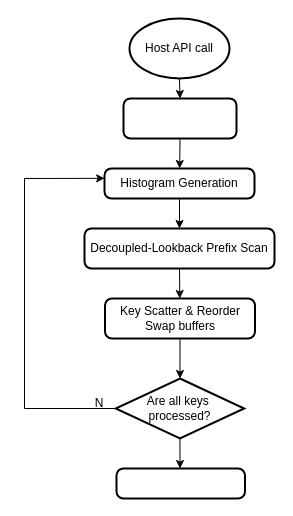
Image size: 293x516. Some labels were removed from this diagram. Here are the shapes that lost their labels. From the top down, the centre of each, then its label:
At [179,118]: "Buffer Allocation and data transfer".
At [180,483]: "Sync/Return to Host".
